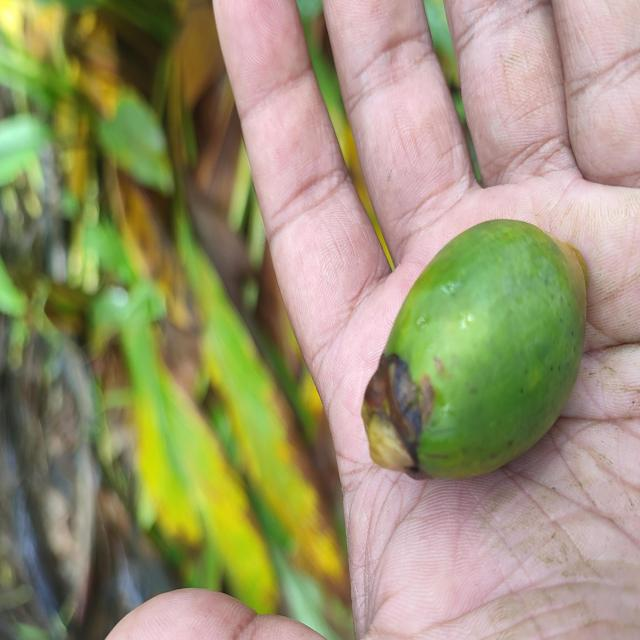good: (362, 220, 588, 483)
